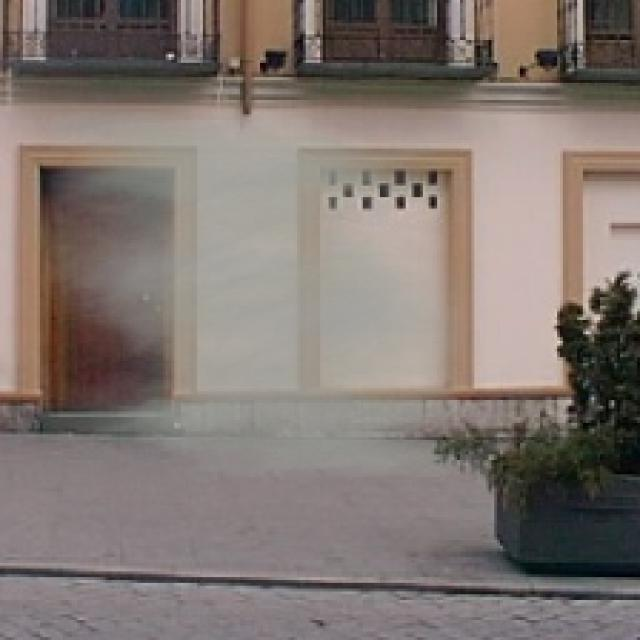smoke: (43, 112, 463, 477)
